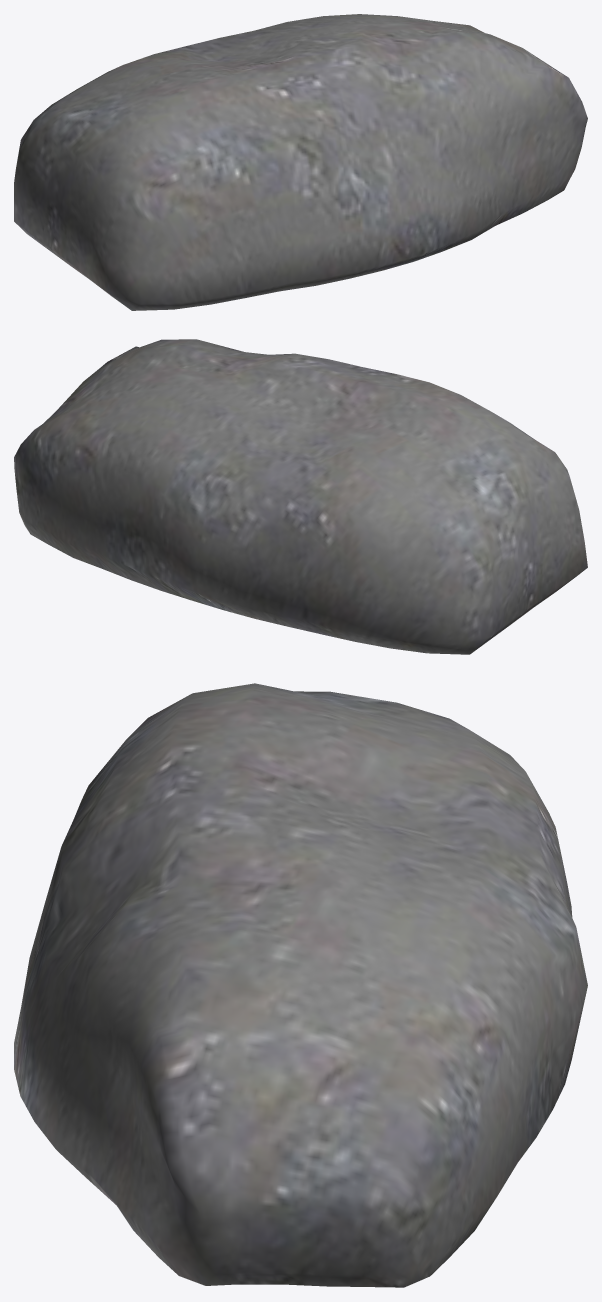
Rendered from SM_Sun_Pal_Stone_K.fbx.
3 views of the same model, one above another, from view 1: azimuth 30°, elevation 25°; view 2: azimuth 150°, elevation 25°; view 3: azimuth 270°, elevation 25° (orthographic). The views are drawn at different scales.
Parts seen in each view (by area): view 1: SM_Sun_Pal_Stone_K; view 2: SM_Sun_Pal_Stone_K; view 3: SM_Sun_Pal_Stone_K.
Boxes of the visible parts, x1=… form: SM_Sun_Pal_Stone_K: x1=14, y1=14, x2=587, y2=310; SM_Sun_Pal_Stone_K: x1=14, y1=339, x2=587, y2=654; SM_Sun_Pal_Stone_K: x1=14, y1=683, x2=587, y2=1287.
Size of the model in its own units: 97.95 by 33.59 by 59.7.
